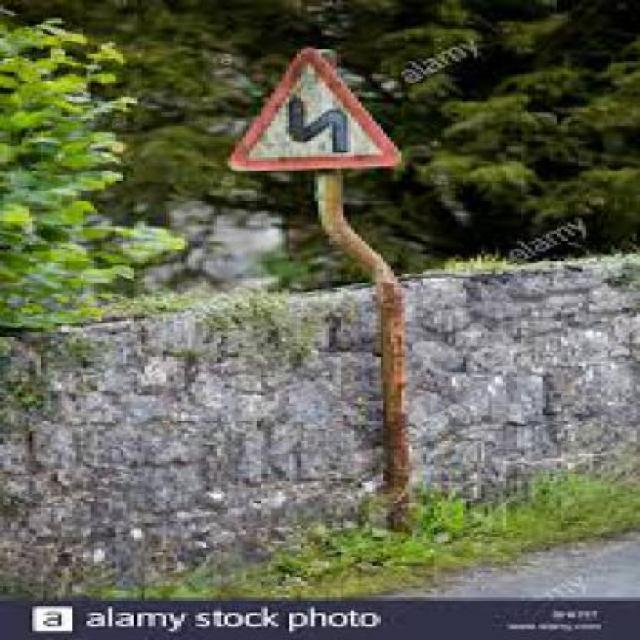warn_double_curve: (217, 45, 410, 169)
